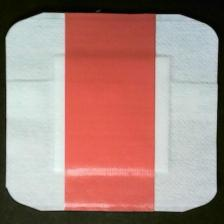Dressing: (5, 12, 221, 214)
Red_T: (61, 9, 159, 216)
